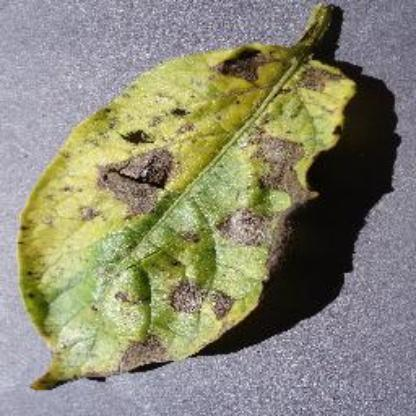Early-Blight: (13, 3, 374, 391)
